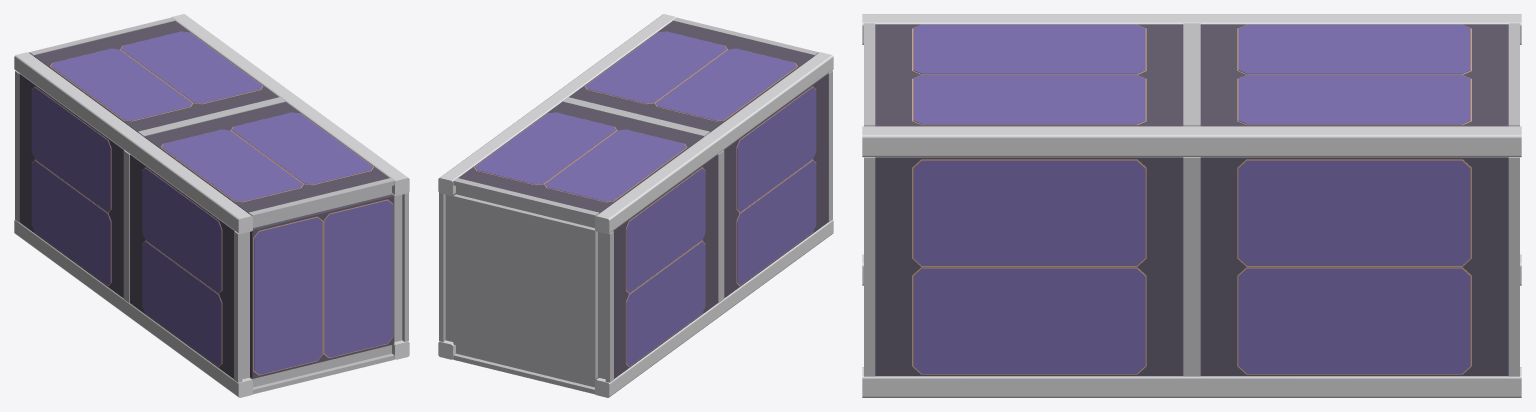
File: CDS_2U_nasa_style.glb
3 renders of one model, left to right at view 1: azimuth 30°, elevation 25°; view 2: azimuth 150°, elevation 25°; view 3: azimuth 270°, elevation 25°, orthographic. The views are drawn at different scales.
Visible parts, largest first — view 1: solar_panel_pZ_cells, solar_panel_mX_z2_cells, solar_panel_mX_z1_cells, solar_panel_pY_z2_cells, solar_panel_pY_z1_cells, rail_mX_pY, structure_body, solar_panel_mX_z1_substrate, solar_panel_mX_z2_substrate, solar_panel_pY_z2_substrate, solar_panel_pY_z1_substrate, rail_mX_mY (+11 smaller); view 2: structure_endplate_mZ, solar_panel_mX_z1_cells, solar_panel_mX_z2_cells, solar_panel_pY_z1_cells, solar_panel_pY_z2_cells, rail_mX_pY, structure_body, solar_panel_mX_z2_substrate, solar_panel_mX_z1_substrate, solar_panel_pY_z1_substrate, solar_panel_pY_z2_substrate, rail_mX_mY (+9 smaller); view 3: solar_panel_pX_z1_cells, solar_panel_pX_z2_cells, solar_panel_pY_z1_cells, solar_panel_pY_z2_cells, rail_pX_pY, solar_panel_pX_z1_substrate, solar_panel_pX_z2_substrate, rail_pX_mY, structure_band_pX, solar_panel_pY_z1_substrate, solar_panel_pY_z2_substrate, rail_mX_pY (+5 smaller).
Part boxes in pixels (x1,y1,x2,y2): solar_panel_pZ_cells: [254, 200, 392, 374]; solar_panel_mX_z2_cells: [142, 168, 221, 366]; solar_panel_mX_z1_cells: [31, 87, 110, 285]; solar_panel_pY_z2_cells: [161, 112, 372, 201]; solar_panel_pY_z1_cells: [51, 31, 262, 120]; rail_mX_pY: [14, 52, 252, 234]; structure_body: [242, 186, 402, 387]; solar_panel_mX_z1_substrate: [19, 73, 124, 298]; solar_panel_mX_z2_substrate: [130, 154, 234, 378]; solar_panel_pY_z2_substrate: [144, 102, 389, 213]; solar_panel_pY_z1_substrate: [33, 21, 278, 132]; rail_mX_mY: [14, 220, 252, 397]; structure_endplate_mZ: [453, 194, 597, 379]; solar_panel_mX_z1_cells: [626, 168, 705, 366]; solar_panel_mX_z2_cells: [737, 87, 816, 285]; solar_panel_pY_z1_cells: [475, 112, 686, 201]; solar_panel_pY_z2_cells: [585, 31, 796, 120]; rail_mX_pY: [595, 52, 833, 234]; structure_body: [445, 186, 605, 387]; solar_panel_mX_z2_substrate: [723, 73, 828, 298]; solar_panel_mX_z1_substrate: [613, 154, 717, 378]; solar_panel_pY_z1_substrate: [458, 102, 703, 213]; solar_panel_pY_z2_substrate: [569, 21, 814, 132]; rail_mX_mY: [595, 220, 833, 397]; solar_panel_pX_z1_cells: [1238, 160, 1470, 373]; solar_panel_pX_z2_cells: [913, 160, 1145, 373]; solar_panel_pY_z1_cells: [1238, 24, 1470, 124]; solar_panel_pY_z2_cells: [913, 24, 1145, 124]; rail_pX_pY: [862, 126, 1521, 157]; solar_panel_pX_z1_substrate: [1200, 157, 1508, 376]; solar_panel_pX_z2_substrate: [875, 157, 1183, 376]; rail_pX_mY: [862, 367, 1521, 397]; structure_band_pX: [864, 157, 1519, 376]; solar_panel_pY_z1_substrate: [1200, 24, 1508, 126]; solar_panel_pY_z2_substrate: [875, 24, 1183, 126]; rail_mX_pY: [862, 14, 1521, 44].
Size of the model in its own units: 0.1 by 0.1 by 0.227.
